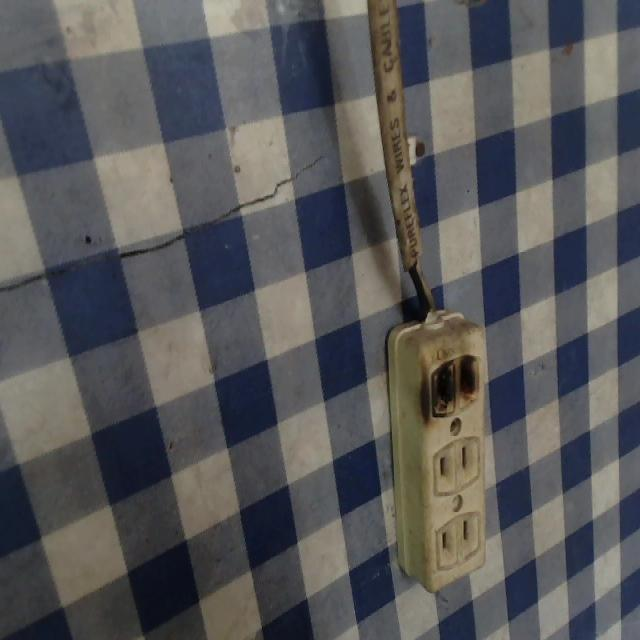-: (418, 341, 483, 427)
